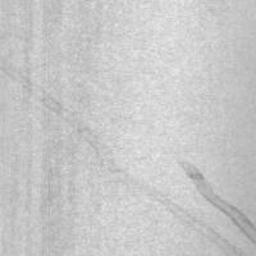Water spot: (0, 54, 247, 256), (177, 159, 256, 246)
